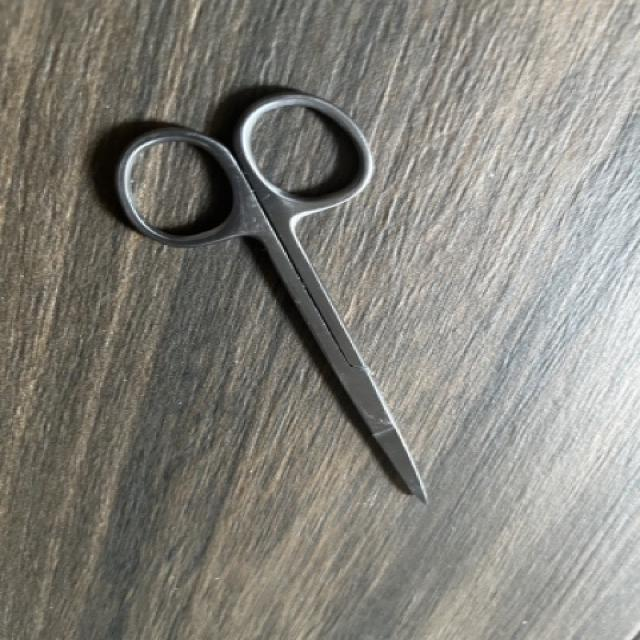scissor: (98, 82, 461, 513)
